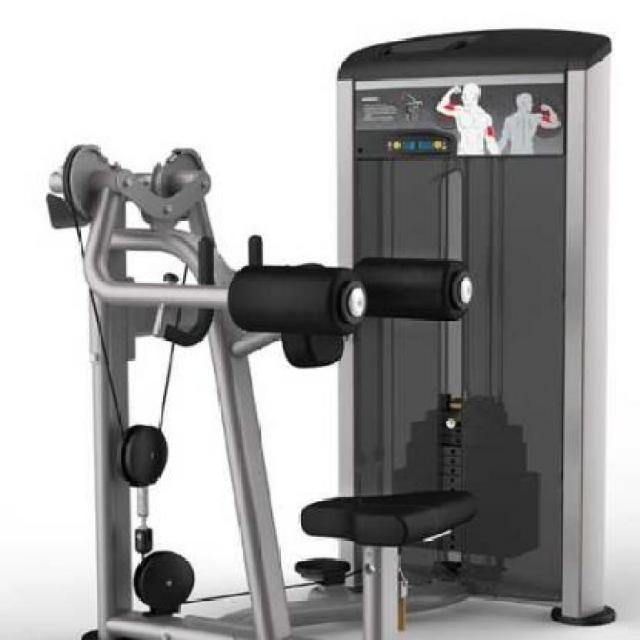lateral raises machine: (48, 146, 615, 626)
